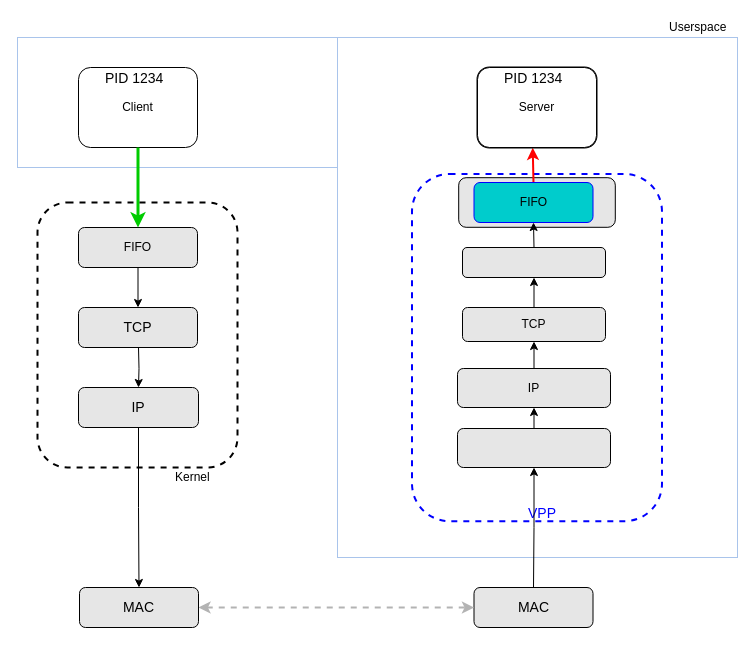
Some shapes in this 755 by 645 pixel diagram are drawn without their labels. The centre of each missing label's shape, as x and y in pixels:
"DPDK" goes at point 533,448.
"Session" goes at point 534,262.
